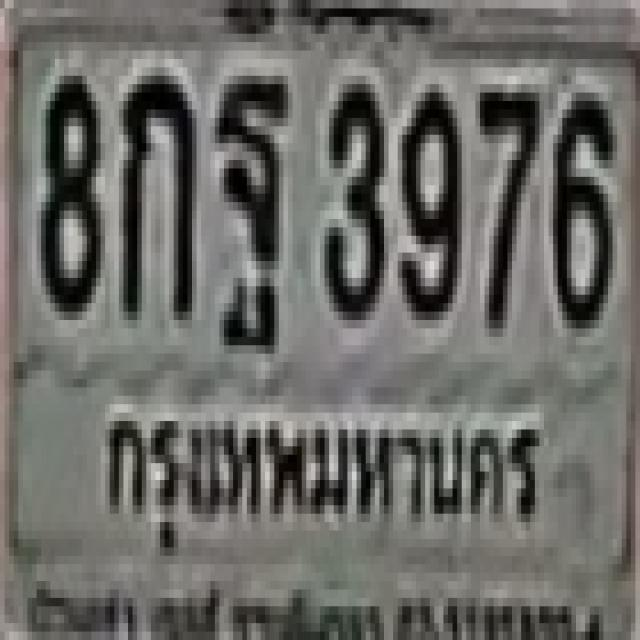3: (320, 76, 379, 312)
6: (549, 84, 608, 320)
7: (475, 84, 535, 320)
8: (37, 68, 96, 304)
9: (398, 84, 457, 312)
A01: (119, 68, 192, 312)
A16: (215, 68, 283, 312)
BKK: (92, 383, 543, 556)
